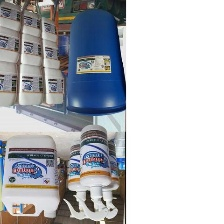cleaning_solution: (0, 132, 58, 218), (73, 122, 109, 220), (89, 136, 120, 223), (61, 141, 91, 222), (12, 62, 45, 106), (14, 31, 42, 67), (0, 59, 21, 107), (40, 67, 65, 105), (0, 25, 22, 65), (0, 0, 24, 33), (37, 39, 61, 70), (18, 9, 42, 39), (38, 15, 59, 43)
